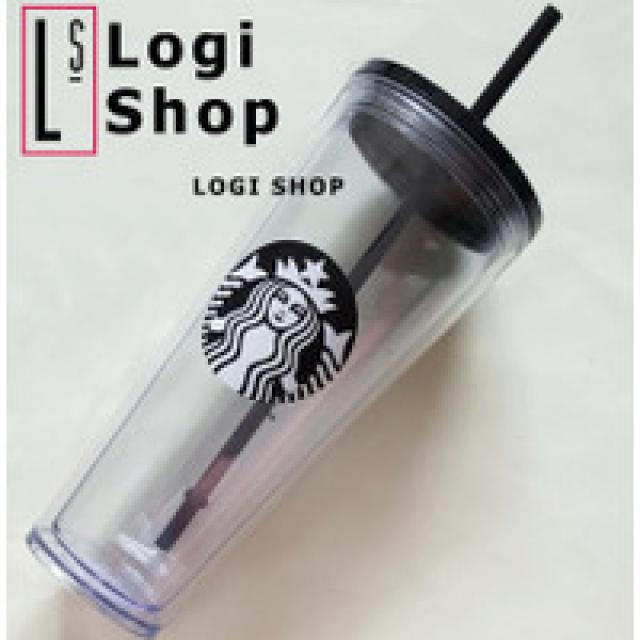bottle: (19, 57, 544, 640)
